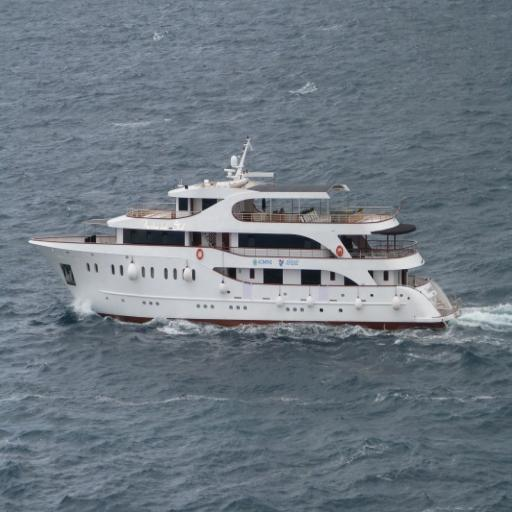cruises: (28, 138, 462, 339)
